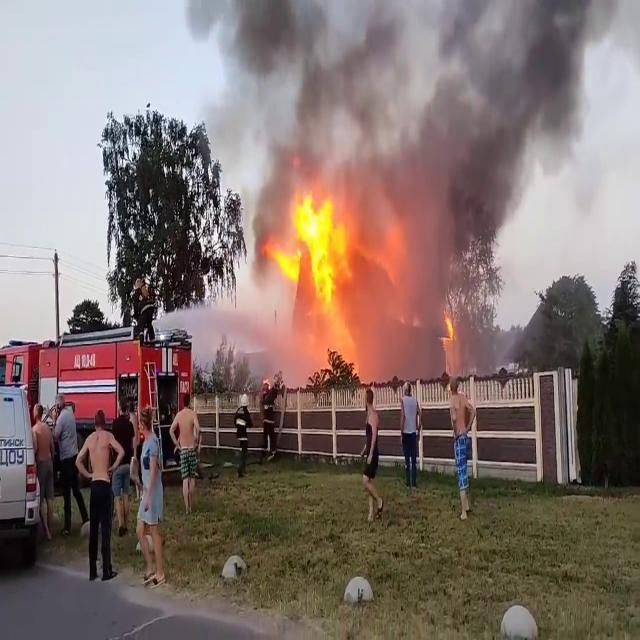Fire: (268, 185, 362, 358)
Smoke: (227, 0, 598, 268)
